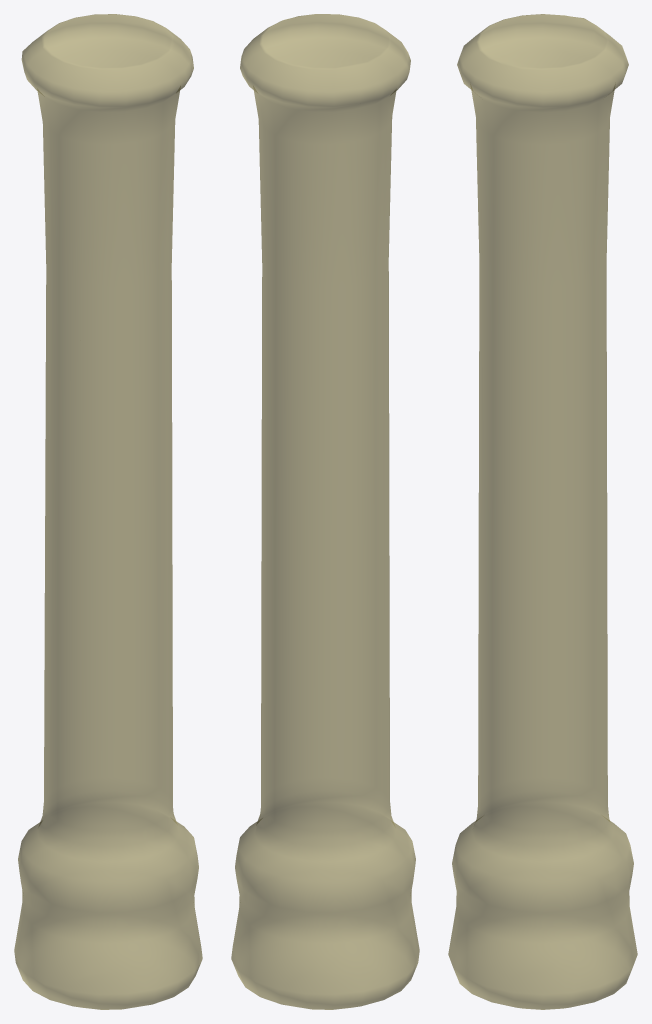
Rendered from SM_Pestel_01_Unit.fbx.
The picture shows the model from 3 angles, left to right: view 1: azimuth 30°, elevation 25°; view 2: azimuth 150°, elevation 25°; view 3: azimuth 270°, elevation 25°; orthographic projection.
Parts seen in each view (by area): view 1: SM_Pestel_01_low; view 2: SM_Pestel_01_low; view 3: SM_Pestel_01_low.
Part boxes in pixels (left/top/right/bottom): SM_Pestel_01_low: left=14, top=14, right=202, bottom=1009; SM_Pestel_01_low: left=231, top=14, right=419, bottom=1009; SM_Pestel_01_low: left=448, top=14, right=637, bottom=1009.
Bounding box in the file's own units: 5.27 × 29.07 × 5.27.
